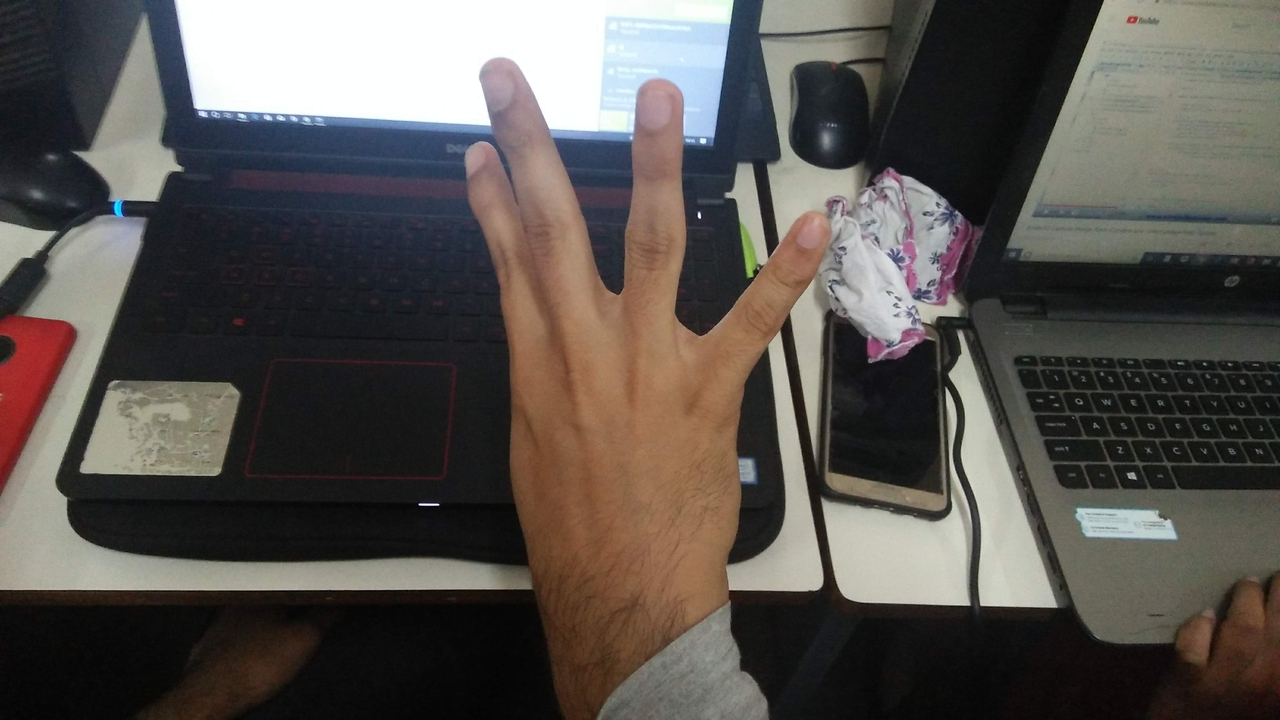fingertip: (780, 200, 846, 264), (626, 76, 688, 130), (472, 54, 528, 106), (458, 143, 499, 188)
